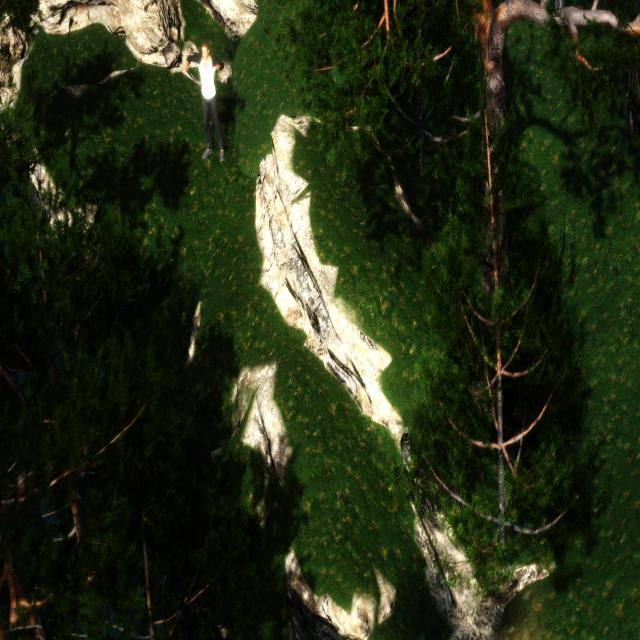Human: (184, 39, 230, 170)
